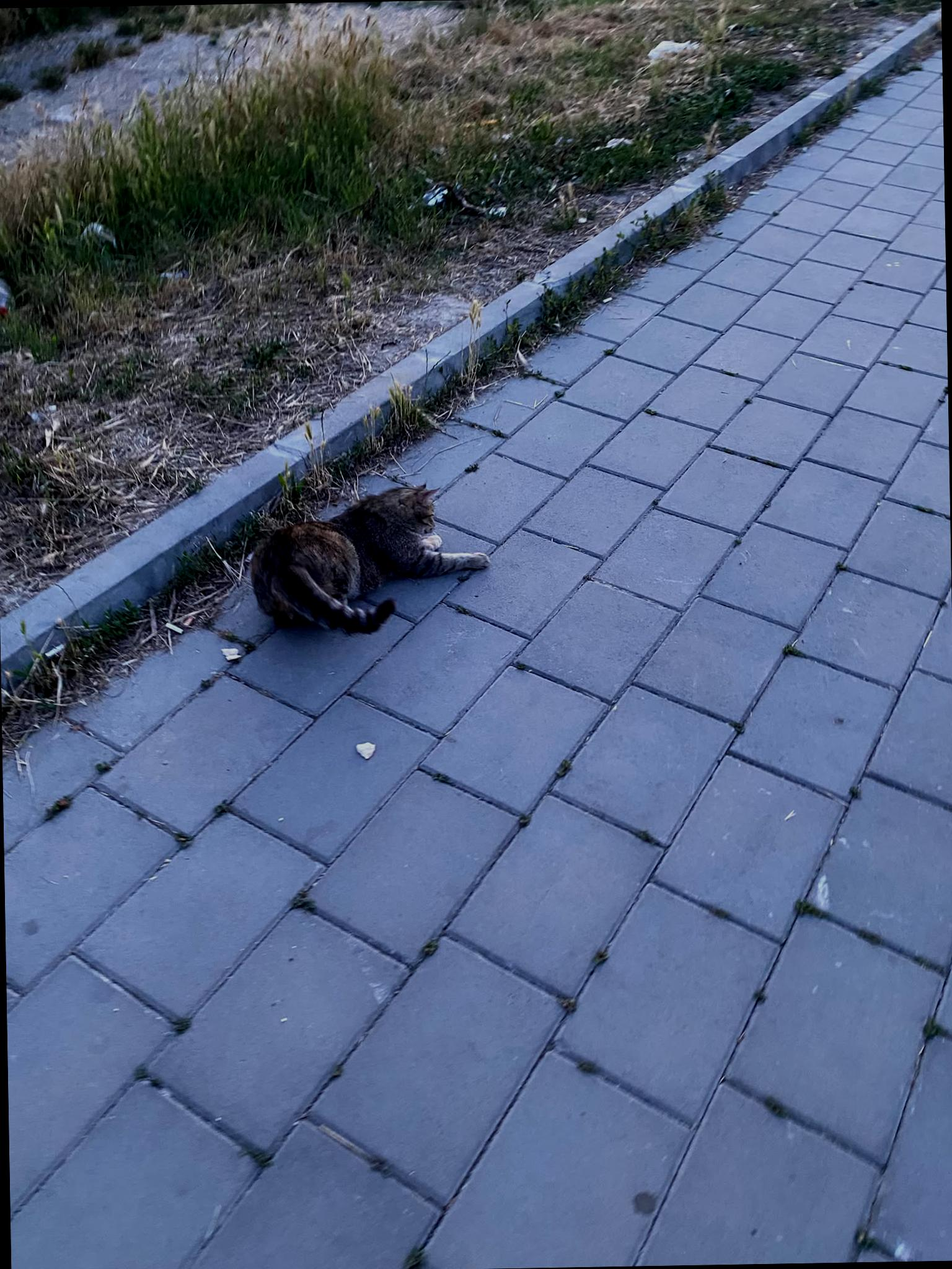macka: (248, 483, 493, 633)
